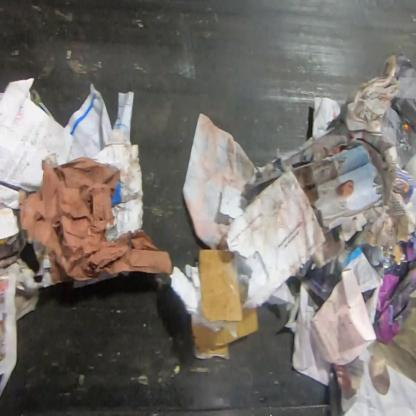cardboard: (197, 249, 260, 339), (189, 315, 236, 360)
